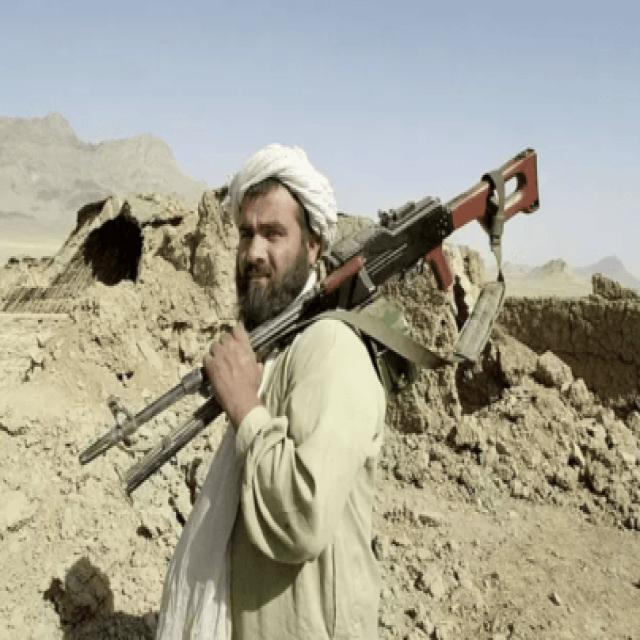Militant: (147, 134, 396, 640)
